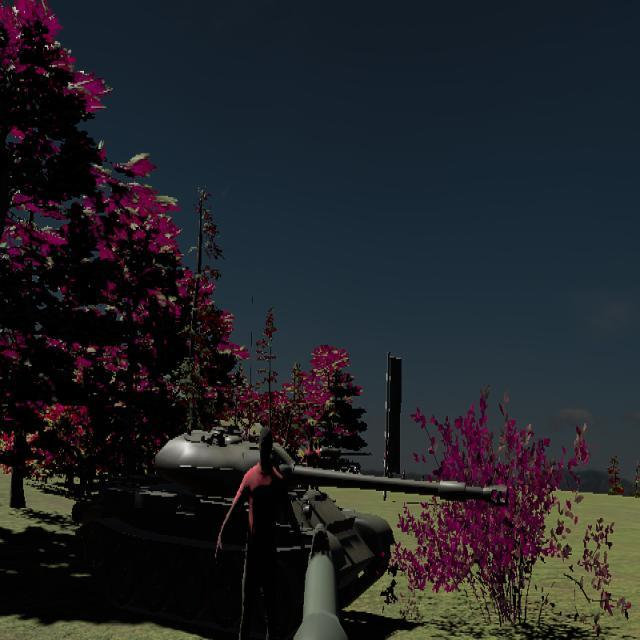Human: (214, 421, 304, 639)
Tank: (84, 420, 509, 629)
